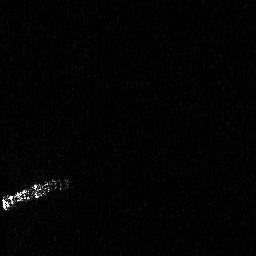ship: (1, 173, 73, 212)
